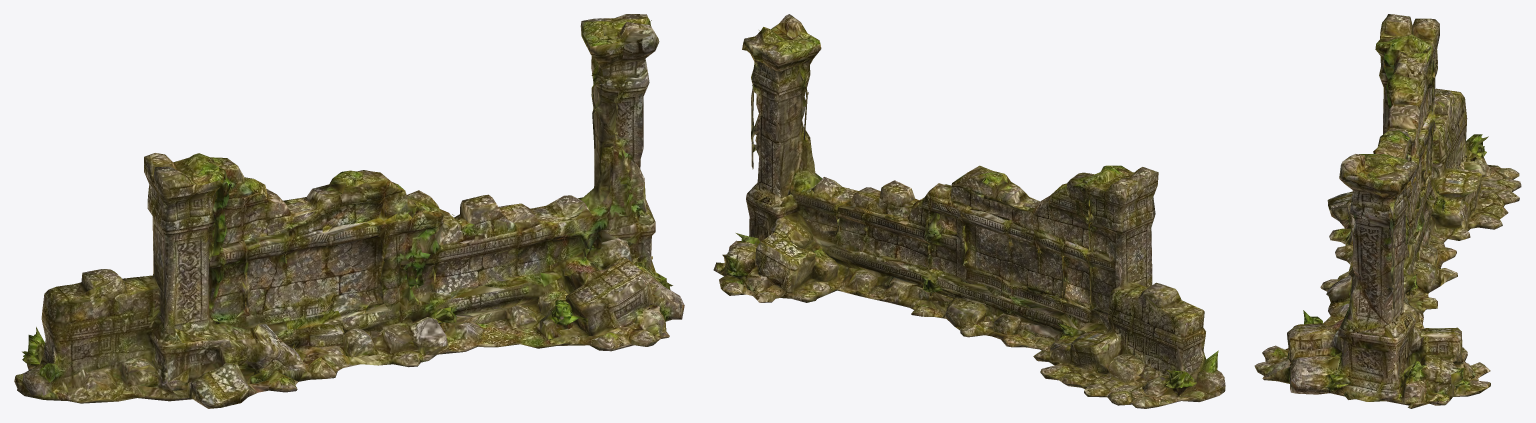
File: ruina_muro.glb
3 views of the same model, side by side, from view 1: azimuth 30°, elevation 25°; view 2: azimuth 150°, elevation 25°; view 3: azimuth 270°, elevation 25° (orthographic). The views are drawn at different scales.
Parts seen in each view (by area): view 1: ruina_muro; view 2: ruina_muro; view 3: ruina_muro.
Part boxes in pixels (bbox=[...]): ruina_muro: bbox=[14, 14, 684, 408]; ruina_muro: bbox=[713, 14, 1225, 408]; ruina_muro: bbox=[1254, 14, 1521, 408].
Bounding box in the file's own units: 8.31 × 3.5 × 3.64.
Materials: 1 (1 with a texture image).
